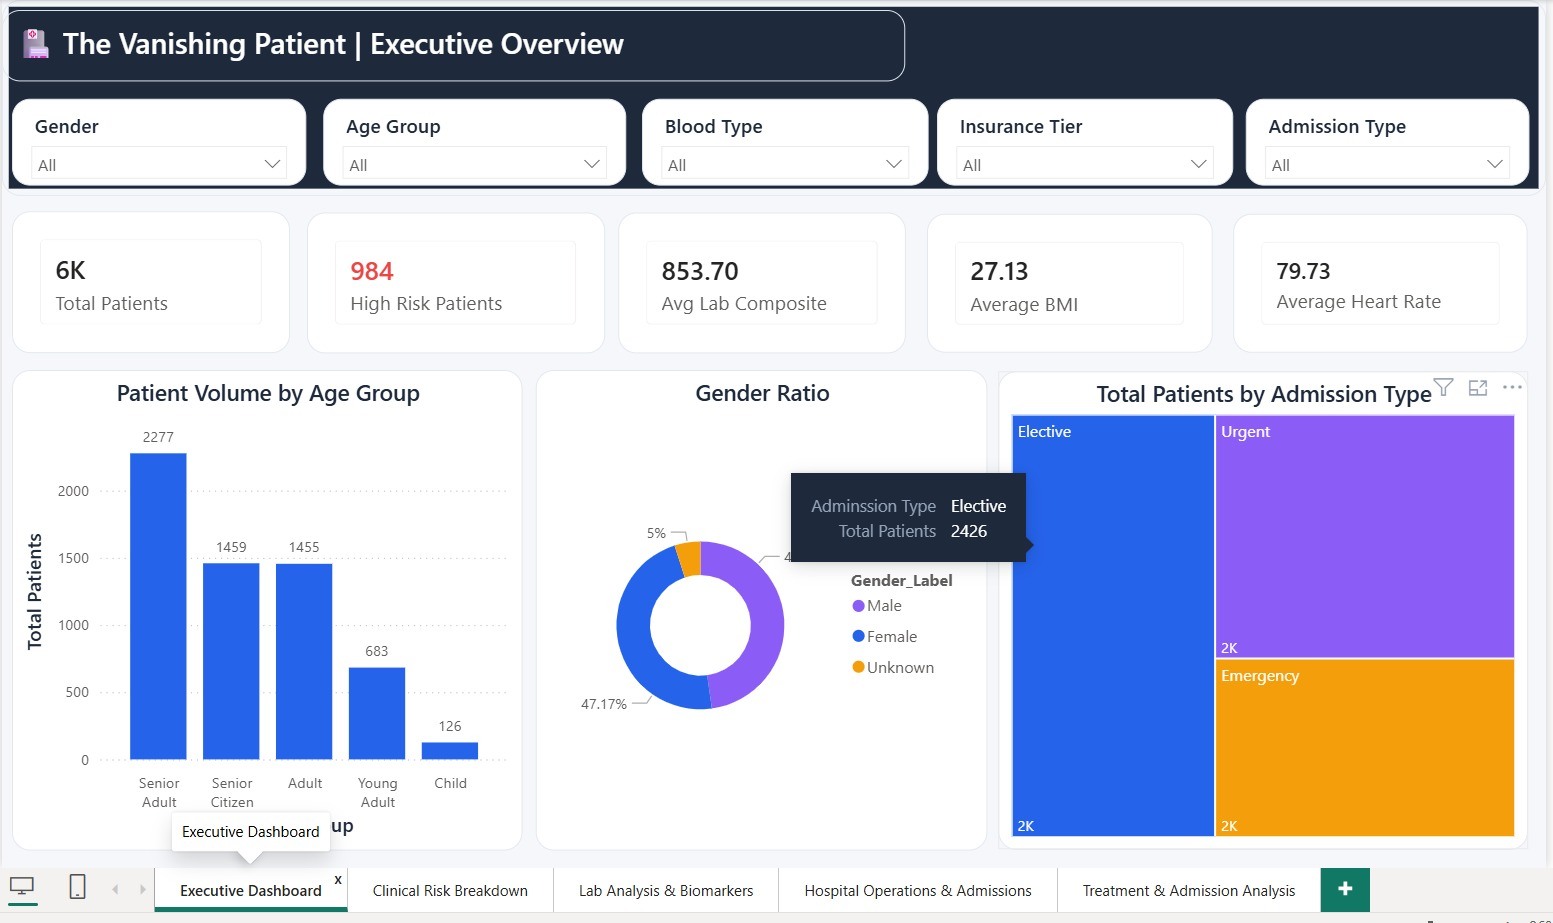

The page's visual inventory and layout, read from the dashboard file:
{"tool":"powerbi","page":{"name":"Executive Dashboard","canvas":[1280,720],"ordinal":0},"visuals":[{"type":"shape","box":[0,0,1280.2,162.8],"z":500},{"type":"slicer","fields":{"Values":["train_feature_engineered.Gender_Label"]},"box":[8.1,81.4,244.2,72.1],"z":1000},{"type":"slicer","fields":{"Values":["train_feature_engineered.Age_Group"]},"box":[266.3,81.4,251.2,72.1],"z":2000},{"type":"slicer","fields":{"Values":["train_feature_engineered.blood Type"]},"box":[530.2,81.4,237.2,72.1],"z":3000},{"type":"slicer","fields":{"Values":["train_feature_engineered.Insurance Tier"]},"box":[775.6,81.4,245.3,72.1],"z":4000},{"type":"slicer","fields":{"Values":["train_feature_engineered.Adminssion Type"]},"box":[1031.4,81.4,234.9,72.1],"z":5000},{"type":"textbox","box":[0,8.1,748.8,59.3],"z":6000},{"type":"cardVisual","fields":{"Data":["train_feature_engineered.Total Patients"]},"box":[8.7,174.9,230.7,117.9],"z":6001},{"type":"cardVisual","fields":{"Data":["train_feature_engineered.High Risk Patients"]},"box":[253.1,176.2,246.9,116.6],"z":6003},{"type":"cardVisual","fields":{"Data":["train_feature_engineered.Avg Lab Composite"]},"box":[511.1,176.2,238.2,116.6],"z":6004},{"type":"cardVisual","fields":{"Data":["train_feature_engineered.Average BMI"]},"box":[766.7,177.4,236.9,115.4],"z":6005},{"type":"cardVisual","fields":{"Data":["train_feature_engineered.Average Heart Rate"]},"box":[1021,177.4,244.4,115.4],"z":6006},{"type":"columnChart","title":"Patient Volume by Age Group","fields":{"Category":["train_feature_engineered.Age_Group"],"Y":["train_feature_engineered.Total Patients"]},"box":[8.7,306.4,423,398.2],"z":6007},{"type":"donutChart","title":"Gender Ratio","fields":{"Category":["train_feature_engineered.Gender_Label"],"Y":["train_feature_engineered.Total Patients"]},"box":[442.9,306.4,374.6,398.2],"z":6008},{"type":"treemap","title":"Total Patients by Admission Type","fields":{"Group":["train_feature_engineered.Adminssion Type"],"Values":["train_feature_engineered.Total Patients"]},"box":[826.2,307.7,439.2,397],"z":6009}]}

Visuals, with their boxes on the page's 1280x720 design canvas (x1, y1, x2, y2). These are canvas units, not pixel positions in the 1553x923 screenshot, which may show the page scaled, cropped or inside an application window:
shape: 0, 0, 1280, 163
slicer - train_feature_engineered.Gender_Label: 8, 81, 252, 154
slicer - train_feature_engineered.Age_Group: 266, 81, 518, 154
slicer - train_feature_engineered.blood Type: 530, 81, 767, 154
slicer - train_feature_engineered.Insurance Tier: 776, 81, 1021, 154
slicer - train_feature_engineered.Adminssion Type: 1031, 81, 1266, 154
textbox: 0, 8, 749, 67
cardVisual - train_feature_engineered.Total Patients: 9, 175, 239, 293
cardVisual - train_feature_engineered.High Risk Patients: 253, 176, 500, 293
cardVisual - train_feature_engineered.Avg Lab Composite: 511, 176, 749, 293
cardVisual - train_feature_engineered.Average BMI: 767, 177, 1004, 293
cardVisual - train_feature_engineered.Average Heart Rate: 1021, 177, 1265, 293
"Patient Volume by Age Group" columnChart: 9, 306, 432, 705
"Gender Ratio" donutChart: 443, 306, 818, 705
"Total Patients by Admission Type" treemap: 826, 308, 1265, 705
